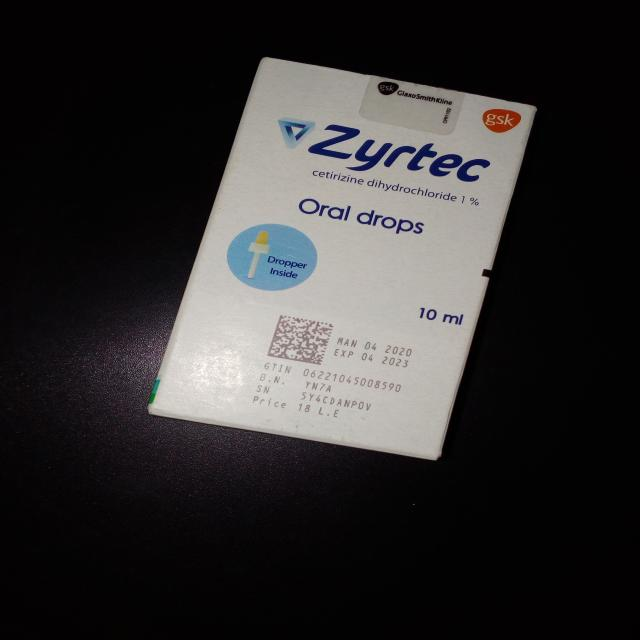Medicine: (146, 54, 539, 463)
